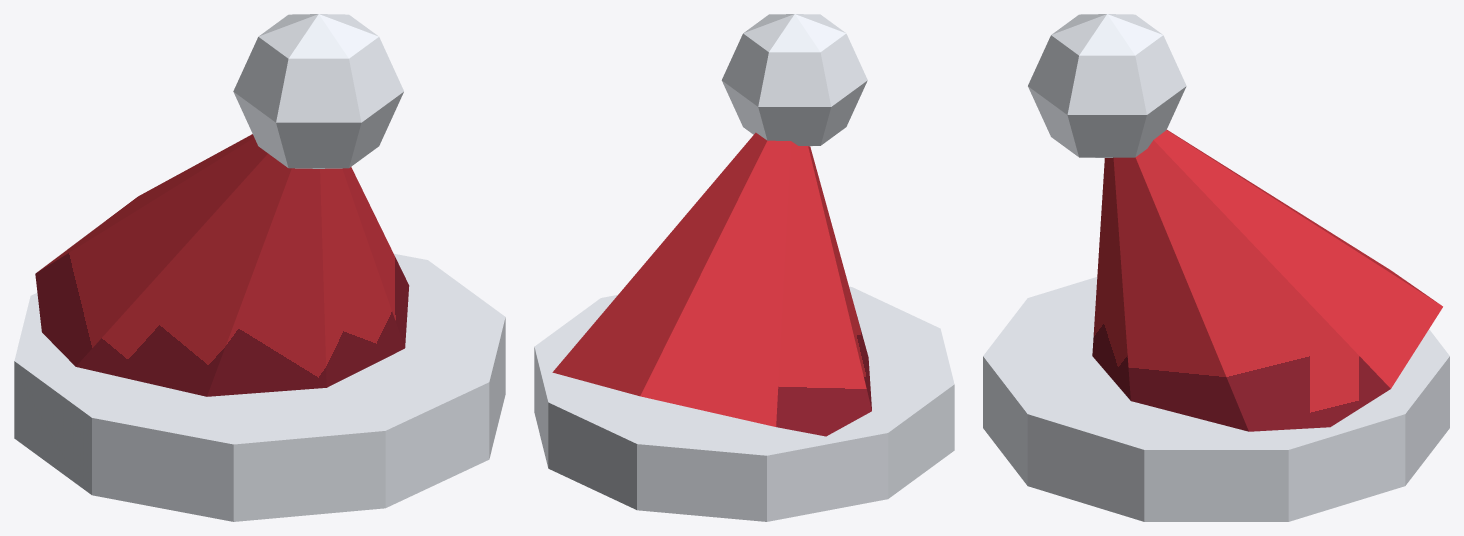
File: hat_santa.glb
3 renders of one model, left to right at view 1: azimuth 30°, elevation 25°; view 2: azimuth 150°, elevation 25°; view 3: azimuth 270°, elevation 25°, orthographic. The views are drawn at different scales.
Visible parts, largest first — view 1: hat_santa; view 2: hat_santa; view 3: hat_santa.
Part boxes in pixels (x1,y1,x2,y2): hat_santa: (14,14,505,521); hat_santa: (534,14,954,521); hat_santa: (983,14,1449,521).
Size of the model in its own units: 0.447 by 0.4991 by 0.47.
Materials: 1 (1 with a texture image).
